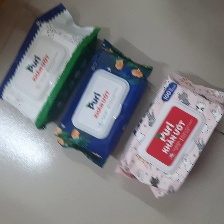Puri Trang: (1, 3, 100, 130)
Puri Xanh: (54, 39, 153, 172)
Puri hong: (117, 69, 224, 200)
